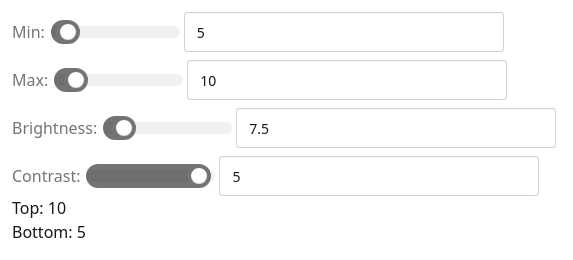
the RangePicker() component › keeps the bottom below the top
Expected: the text "Bottom: 5" is shown, [12,221,86,243]
Note: Move the bottom above the old top and check that top got dragged along
Set the slider labelled "Max:" to "2" at (63, 80), box [54,68,183,92]
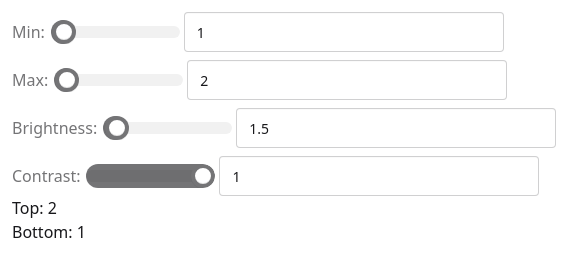
Expected: the text "Bottom: 1" is shown, [12,221,86,243]
Expected: the text "Top: 2" is shown, [12,197,57,219]
